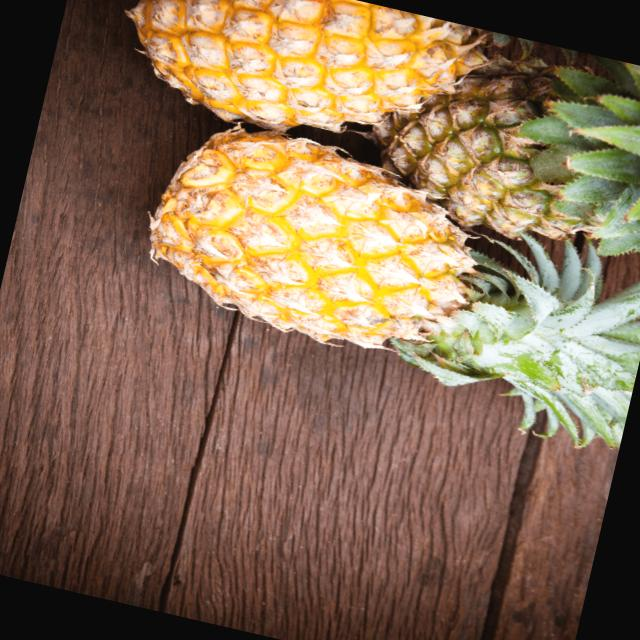pineapple: (106, 96, 598, 396), (358, 10, 640, 270), (106, 0, 496, 178)
